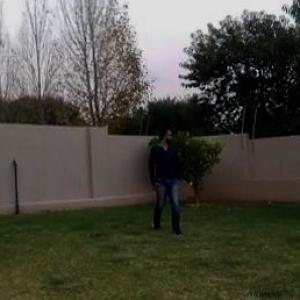follow: (154, 122, 183, 236)
